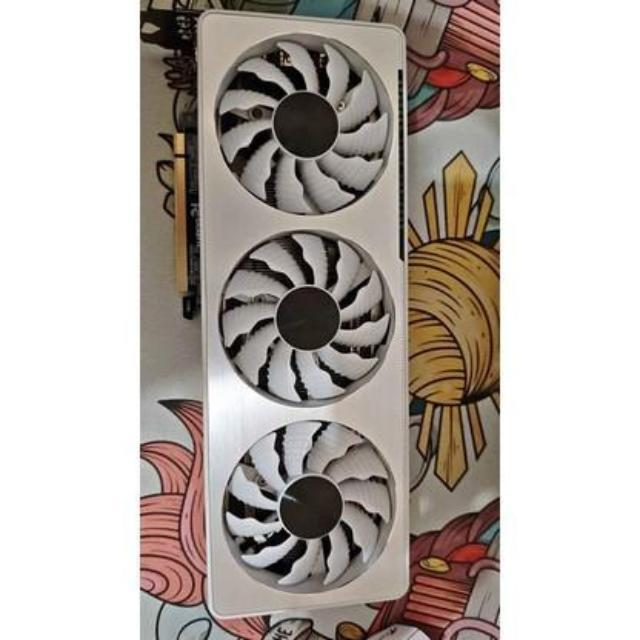GPU: (164, 0, 416, 626)
